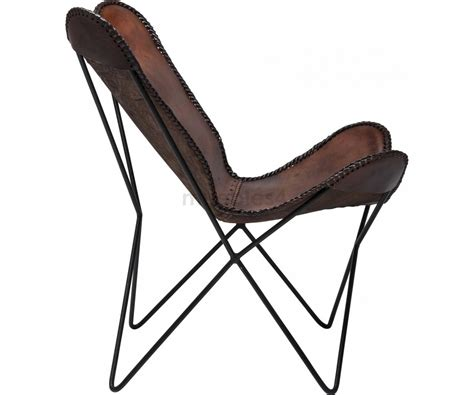cuero: (67, 2, 407, 215)
